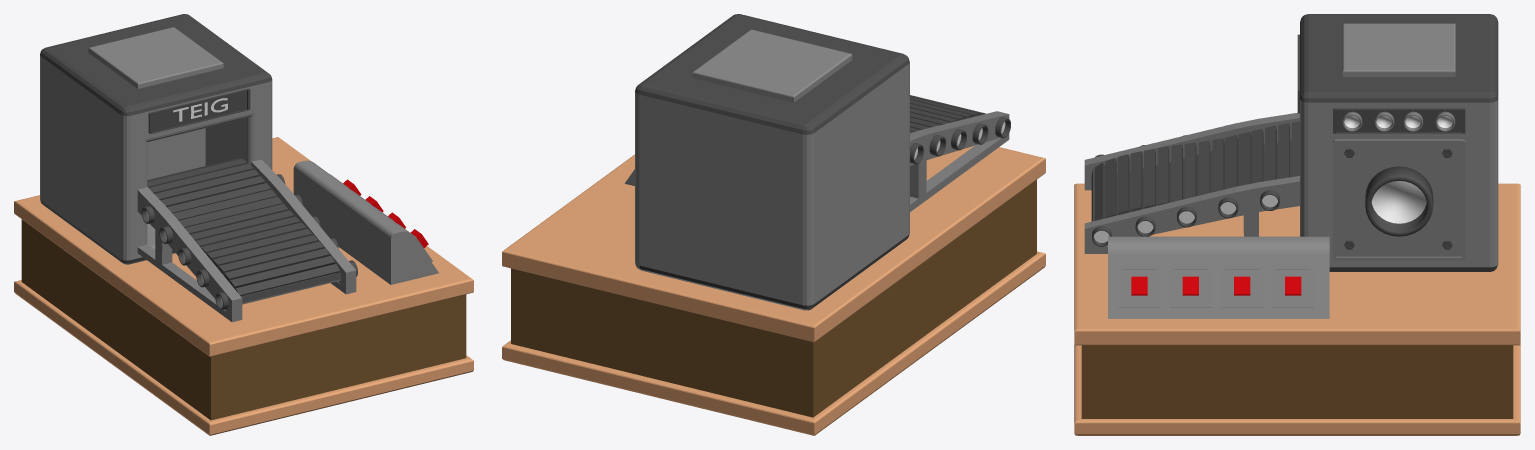
File: Teigmaschine.fbx
The picture shows the model from 3 angles, left to right: view 1: azimuth 30°, elevation 25°; view 2: azimuth 150°, elevation 25°; view 3: azimuth 270°, elevation 25°; orthographic projection. The views are drawn at different scales.
Parts seen in each view (by area): view 1: Maschine, Laufband, Konsole; view 2: Maschine, Laufband; view 3: Maschine, Konsole, Laufband.
Part boxes in pixels (box(x1,y1,x2,y2)): Maschine: box(14, 14, 473, 435); Laufband: box(147, 158, 341, 304); Konsole: box(293, 160, 438, 284); Maschine: box(502, 14, 1045, 435); Laufband: box(910, 95, 985, 133); Maschine: box(1074, 14, 1520, 435); Konsole: box(1108, 236, 1329, 318); Laufband: box(1091, 121, 1299, 221).
Bounding box in the file's own units: 350 × 326 × 450.
